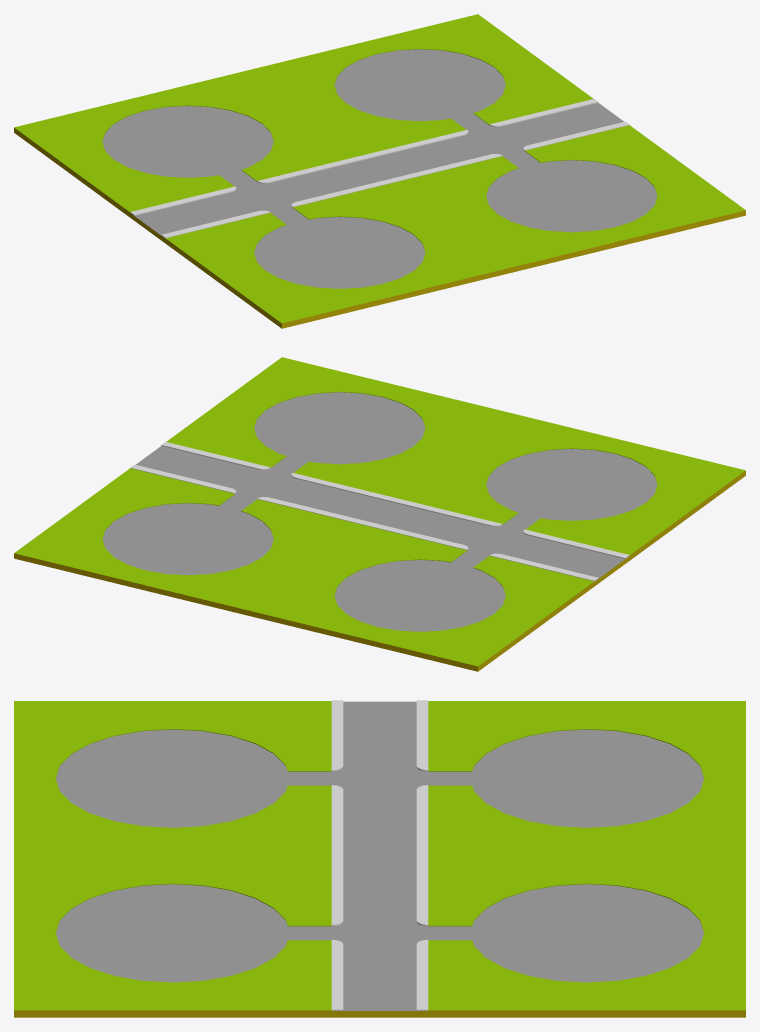
The picture shows the model from 3 angles, top to bottom: view 1: azimuth 30°, elevation 25°; view 2: azimuth 150°, elevation 25°; view 3: azimuth 270°, elevation 25°; orthographic projection. The views are drawn at different scales.
Parts seen in each view (by area): view 1: 3; view 2: 3; view 3: 3.
Boxes of the visible parts, box(x1,y1,x2,y2) form: 3: box(14, 14, 745, 328); 3: box(14, 357, 745, 671); 3: box(14, 700, 745, 1017).
Bounding box in the file's own units: 5000 × 60 × 5000.
